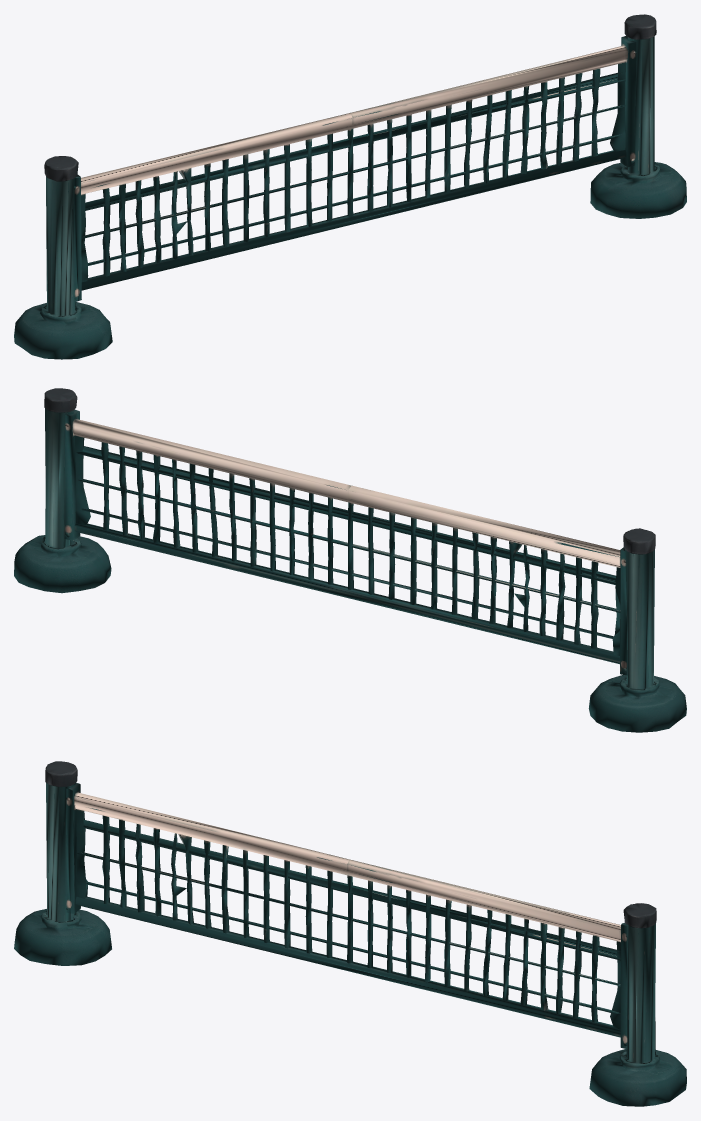
File: park-tennis-net.glb
The picture shows the model from 3 angles, top to bottom: view 1: azimuth 30°, elevation 25°; view 2: azimuth 150°, elevation 25°; view 3: azimuth 330°, elevation 25°; orthographic projection.
Visible parts, largest first — view 1: Mesh_0.001; view 2: Mesh_0.001; view 3: Mesh_0.001.
Part boxes in pixels (x1,y1,x2,y2): Mesh_0.001: [14, 14, 686, 359]; Mesh_0.001: [14, 388, 686, 732]; Mesh_0.001: [14, 761, 686, 1106].
Bounding box in the file's own units: 4.1 × 1.07 × 0.527.
1 material, 1 textured.
